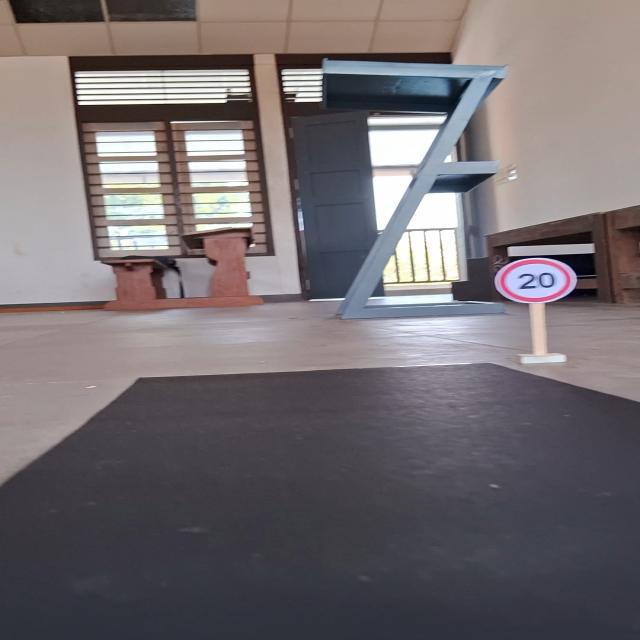Speed20: (489, 256, 580, 304)
